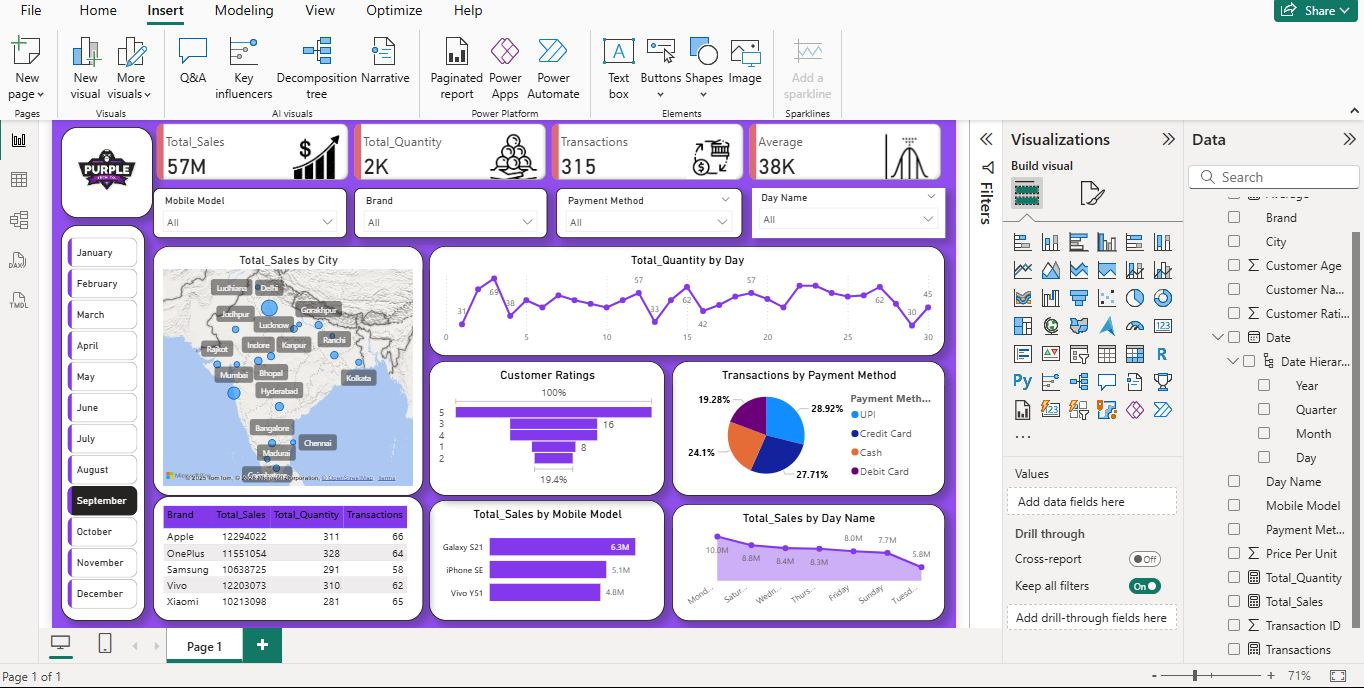

Layout of this report page (visuals, bound fields, positions):
{"tool":"powerbi","page":{"name":"Page 1","canvas":[1280,720],"ordinal":0},"visuals":[{"type":"shape","box":[12.8,9.9,130.4,129],"z":0},{"type":"shape","box":[12.8,148.8,119.1,561.3],"z":2000},{"type":"advancedSlicerVisual","fields":{"Values":["Sales_Data.Date.Variation.Date Hierarchy.Month"]},"box":[17,161.6,109.1,537.2],"z":3000},{"type":"cardVisual","fields":{"Data":["Sales_Data.Total_Sales","Sales_Data.Total_Quantity","Sales_Data.Transactions","Sales_Data.Average"]},"box":[143.1,0,1122.5,90.7],"z":4000},{"type":"map","fields":{"Category":["Sales_Data.City"],"Size":["Sales_Data.Total_Sales"]},"box":[143.1,178.6,382.7,354.3],"z":5000},{"type":"lineChart","fields":{"Category":["Sales_Data.Date.Variation.Date Hierarchy.Month","Sales_Data.Date.Variation.Date Hierarchy.Day"],"Y":["Sales_Data.Total_Quantity"]},"box":[534.3,178.6,731.3,155.9],"z":6000},{"type":"clusteredBarChart","fields":{"Category":["Sales_Data.Mobile Model"],"Y":["Sales_Data.Total_Sales"]},"box":[534.3,538.6,334.5,171.5],"z":7000},{"type":"pieChart","fields":{"Category":["Sales_Data.Payment Method"],"Y":["Sales_Data.Transactions"]},"box":[878.7,341.6,386.9,191.3],"z":8000},{"type":"funnel","title":"Customer Ratings","fields":{"Category":["Sales_Data.Customer Ratings"],"Y":["CountNonNull(Sales_Data.Customer Ratings)"]},"box":[534.3,341.6,334.5,191.3],"z":9000},{"type":"areaChart","fields":{"Category":["Sales_Data.Day Name"],"Y":["Sales_Data.Total_Sales"]},"box":[878.7,544.3,386.9,165.8],"z":10000},{"type":"tableEx","fields":{"Values":["Sales_Data.Brand","Sales_Data.Total_Sales","Sales_Data.Total_Quantity","Sales_Data.Transactions"]},"box":[143.1,532.9,382.7,177.2],"z":11000},{"type":"slicer","fields":{"Values":["Sales_Data.Mobile Model"]},"box":[143.1,96.4,275,70.9],"z":12000},{"type":"slicer","fields":{"Values":["Sales_Data.Payment Method"]},"box":[714.3,96.4,263.6,70.9],"z":13000},{"type":"slicer","fields":{"Values":["Sales_Data.Day Name"]},"box":[992.1,96.4,273.5,70.9],"z":14000},{"type":"slicer","fields":{"Values":["Sales_Data.Brand"]},"box":[428,96.4,273.5,70.9],"z":15000},{"type":"image","box":[21.3,15.6,113.4,117.6],"z":15001}]}

Visuals, with their boxes on the page's 1280x720 design canvas (x1, y1, x2, y2). These are canvas units, not pixel positions in the 1364x688 screenshot, which may show the page scaled, cropped or inside an application window:
shape: [13, 10, 143, 139]
shape: [13, 149, 132, 710]
advancedSlicerVisual - Sales_Data.Date.Variation.Date Hierarchy.Month: [17, 162, 126, 699]
cardVisual - Sales_Data.Total_Sales x Sales_Data.Total_Quantity: [143, 0, 1266, 91]
map - Sales_Data.City x Sales_Data.Total_Sales: [143, 179, 526, 533]
lineChart - Sales_Data.Date.Variation.Date Hierarchy.Month x Sales_Data.Date.Variation.Date Hierarchy.Day: [534, 179, 1266, 334]
clusteredBarChart - Sales_Data.Mobile Model x Sales_Data.Total_Sales: [534, 539, 869, 710]
pieChart - Sales_Data.Payment Method x Sales_Data.Transactions: [879, 342, 1266, 533]
"Customer Ratings" funnel: [534, 342, 869, 533]
areaChart - Sales_Data.Day Name x Sales_Data.Total_Sales: [879, 544, 1266, 710]
tableEx - Sales_Data.Brand x Sales_Data.Total_Sales: [143, 533, 526, 710]
slicer - Sales_Data.Mobile Model: [143, 96, 418, 167]
slicer - Sales_Data.Payment Method: [714, 96, 978, 167]
slicer - Sales_Data.Day Name: [992, 96, 1266, 167]
slicer - Sales_Data.Brand: [428, 96, 702, 167]
image: [21, 16, 135, 133]
